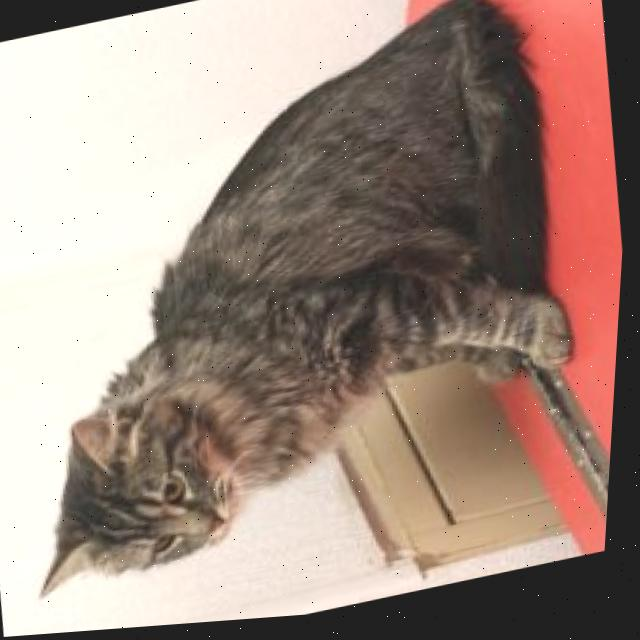Maine Coon: (0, 0, 618, 605)
